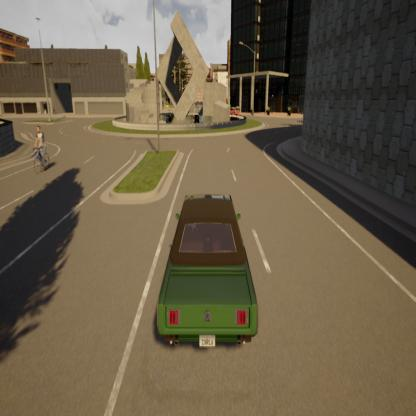Cars: (154, 187, 261, 357), (32, 124, 54, 176)
